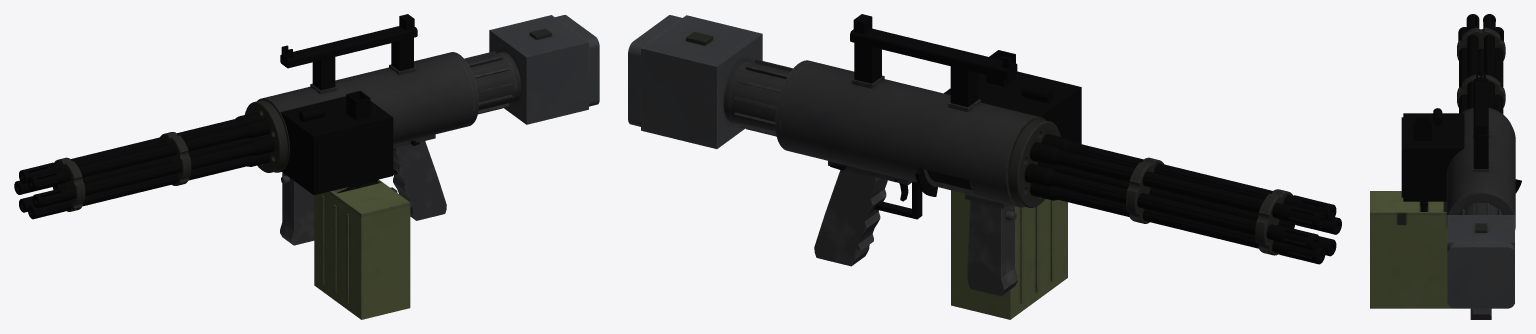
File: gatling.glb
The picture shows the model from 3 angles, left to right: view 1: azimuth 30°, elevation 25°; view 2: azimuth 150°, elevation 25°; view 3: azimuth 270°, elevation 25°; orthographic projection. The views are drawn at different scales.
Visible parts, largest first — view 1: ammo_box, housing, battery_shell, feeder_housing, feeder_cover, carry_handle, rear_grip, barrel_l2, barrel_l1, motor_can, front_grip, barrel_l3 (+12 smaller); view 2: housing, battery_shell, ammo_box, carry_handle, rear_grip, front_grip, barrel_r2, barrel_r1, feeder_housing, motor_can, barrel_r3, barrel_l1 (+12 smaller); view 3: ammo_box, battery_end_pad, housing, feeder_housing, battery_shell, carry_handle, ammo_box_lid, motor_mount_flange, barrel_l1, barrel_r1, barrel_clamp_muzzle, barrel_r2 (+14 smaller).
Part boxes in pixels (x1,y1,x2,y2): ammo_box: (314,183,410,319); housing: (257,53,474,172); battery_shell: (493,15,588,123); feeder_housing: (280,96,393,195); feeder_cover: (316,121,391,192); carry_handle: (280,26,417,90); rear_grip: (393,141,446,220); barrel_l2: (68,136,274,199); barrel_l1: (63,119,269,181); motor_can: (464,51,516,114); front_grip: (280,172,314,245); barrel_l3: (66,153,269,210); housing: (780,61,1045,208); battery_shell: (641,15,757,147); ammo_box: (951,190,1067,319); carry_handle: (850,28,1017,107); rear_grip: (814,169,887,266); front_grip: (967,200,1017,296); barrel_r2: (1024,163,1276,239); barrel_r1: (1030,142,1281,218); feeder_housing: (944,71,1081,143); motor_can: (729,59,792,136); barrel_r3: (1030,183,1278,253); barrel_l1: (1041,134,1292,204); ammo_box: (1370,201,1453,308); battery_end_pad: (1447,242,1514,308); housing: (1446,110,1515,219); feeder_housing: (1403,113,1464,201); battery_shell: (1447,216,1514,303); carry_handle: (1473,78,1488,168); ammo_box_lid: (1370,191,1446,214); motor_mount_flange: (1446,191,1515,229); barrel_l1: (1467,34,1478,109); barrel_r1: (1484,34,1494,109); barrel_clamp_muzzle: (1457,27,1505,60); barrel_r2: (1495,47,1503,113).
Size of the model in its own units: 0.774 by 0.309 by 0.2021.
1 material, 1 textured.
